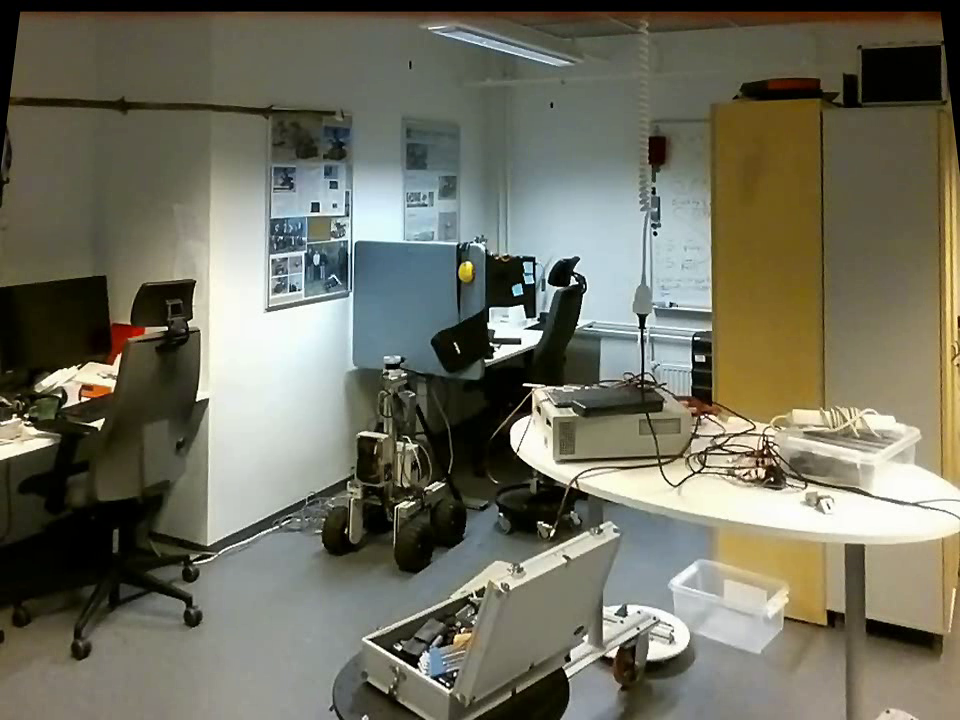aluminum_frame: (643, 116, 657, 312), (651, 292, 710, 320), (648, 113, 712, 127)
branch: (10, 88, 326, 124)
